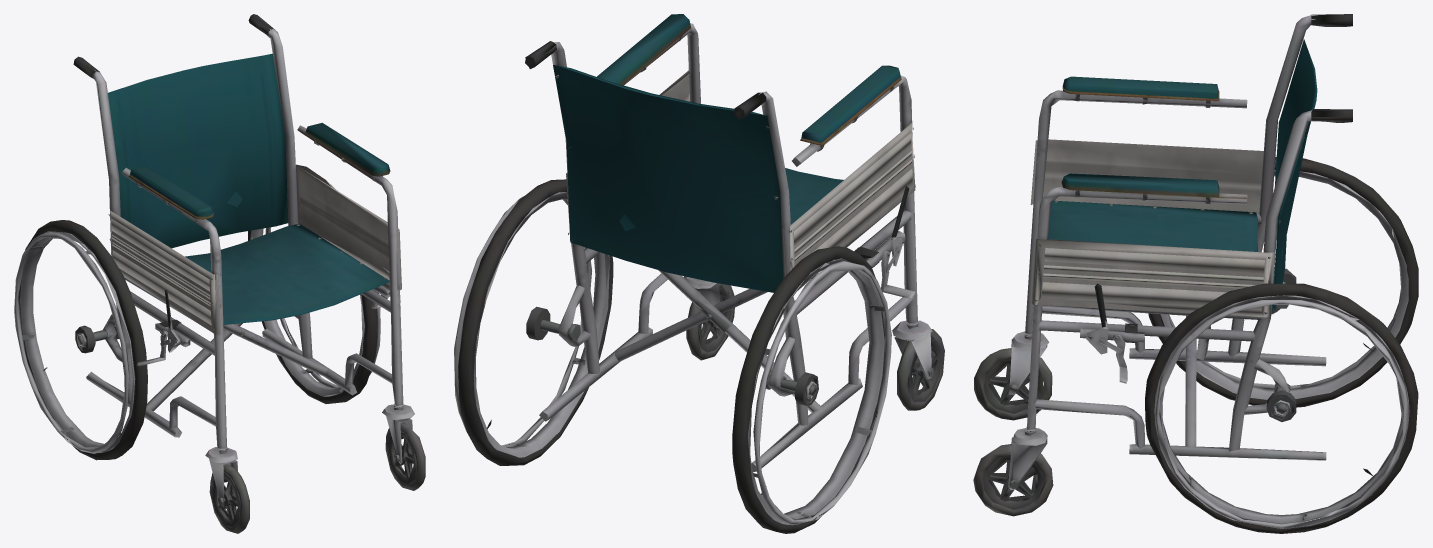
File: wheelchair_01.glb
The picture shows the model from 3 angles, left to right: view 1: azimuth 30°, elevation 25°; view 2: azimuth 150°, elevation 25°; view 3: azimuth 270°, elevation 25°; orthographic projection. The views are drawn at different scales.
Parts seen in each view (by area): view 1: wheelchair_01; view 2: wheelchair_01; view 3: wheelchair_01.
Part boxes in pixels (x1,y1,x2,y2): wheelchair_01: (14,14,425,533); wheelchair_01: (454,14,944,533); wheelchair_01: (973,14,1418,533).
Bounding box in the file's own units: 0.8241 × 1.1 × 1.09.
1 material, 1 textured.
